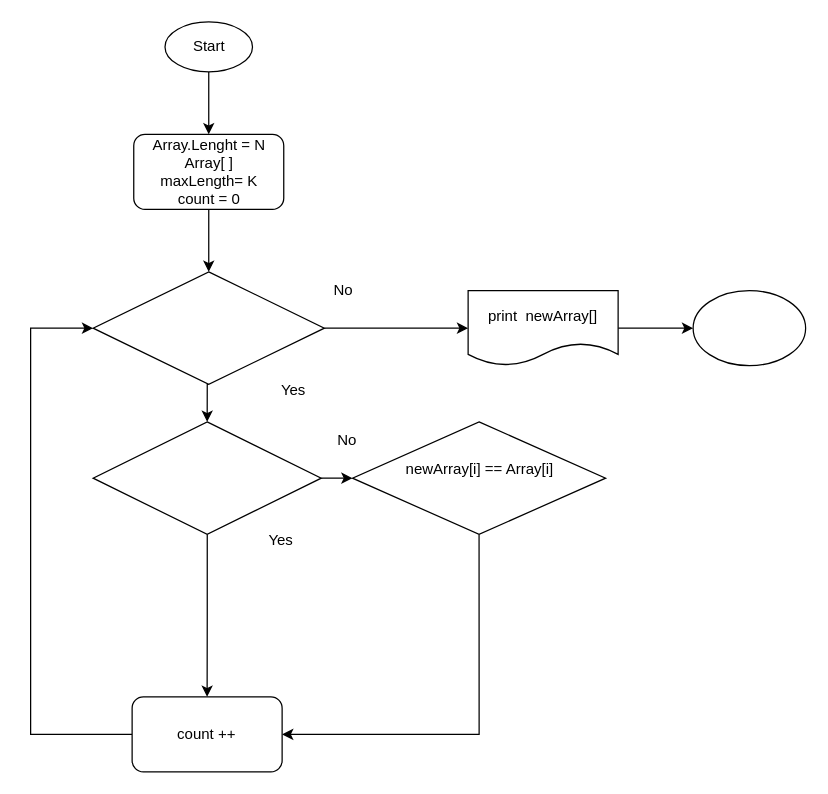
This 828x794 diagram has some shape labels left out. The shapes that lost their labels are listed below. From the top down, each one's centre as x and y in pixels, then its label:
At (x=208, y=327): "count < N".
At (x=749, y=327): "End".
At (x=206, y=477): "Array[i].Lenght > 3".
